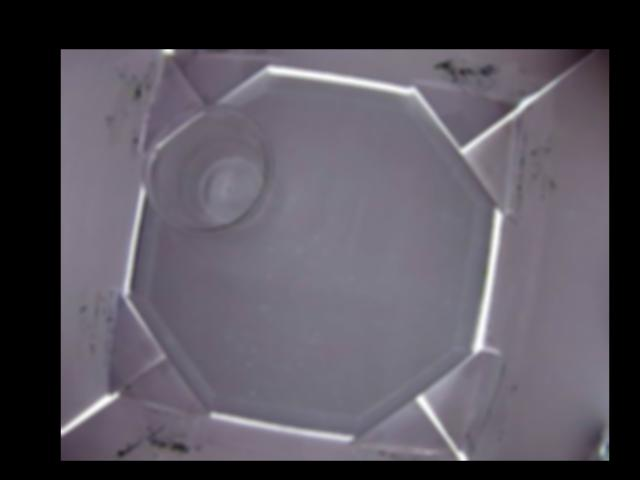Cup: (142, 101, 275, 236)
